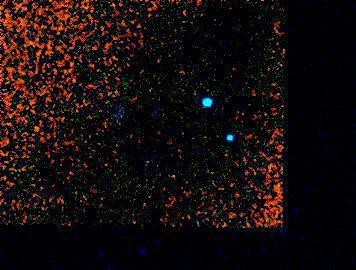star: (156, 156, 186, 186)
